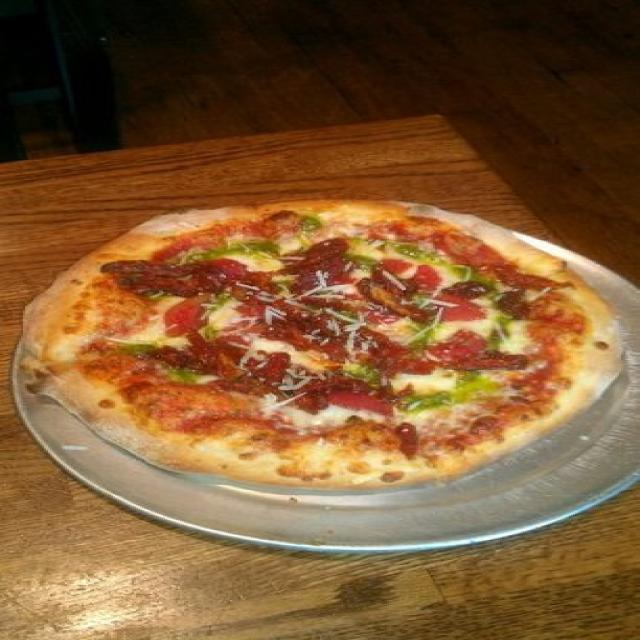Green Pepper: (409, 378, 494, 408), (184, 243, 272, 263), (395, 244, 451, 264), (487, 310, 511, 350), (348, 365, 381, 387), (442, 264, 486, 279), (205, 293, 219, 335), (120, 338, 154, 355), (167, 368, 202, 384), (410, 325, 429, 349), (298, 220, 312, 246)
Pizza: (15, 201, 625, 496)
